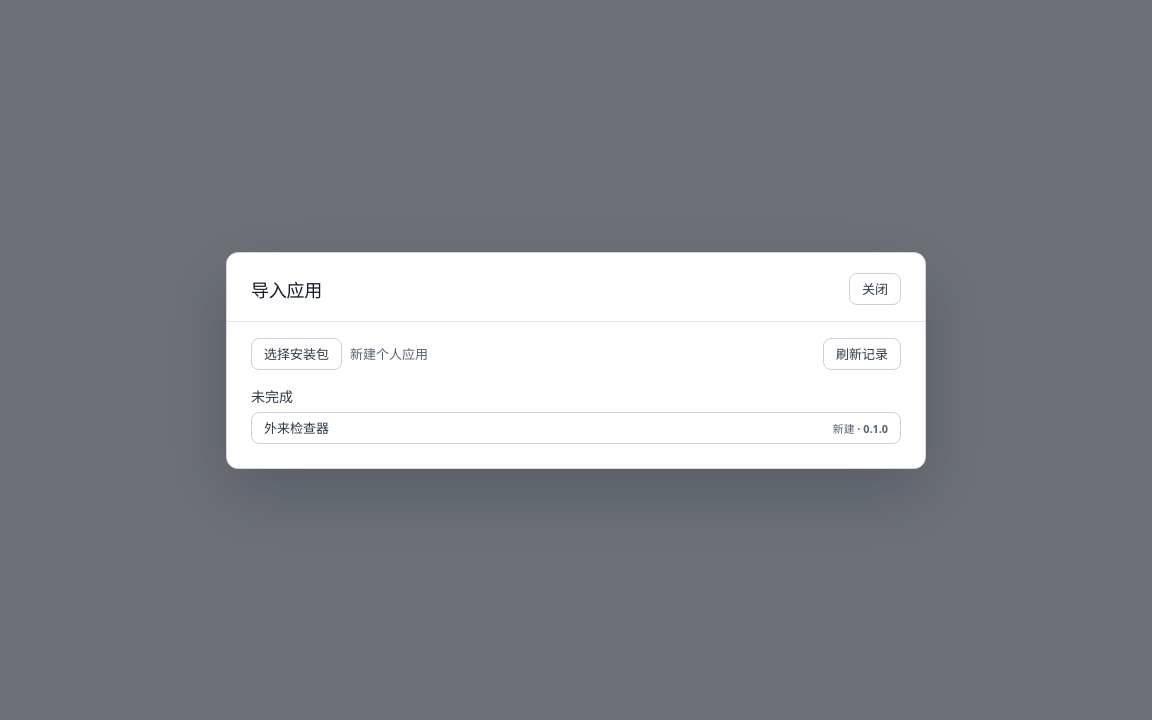
Test: 打开仅查询本地未完成记录，不选择文件或重发安装
The width and height of the screenshot is (1152, 720).
Click the button "外来检查器 新建 · 0.1.0" at (297, 428), box [251,412,901,444]
(page scrolled)
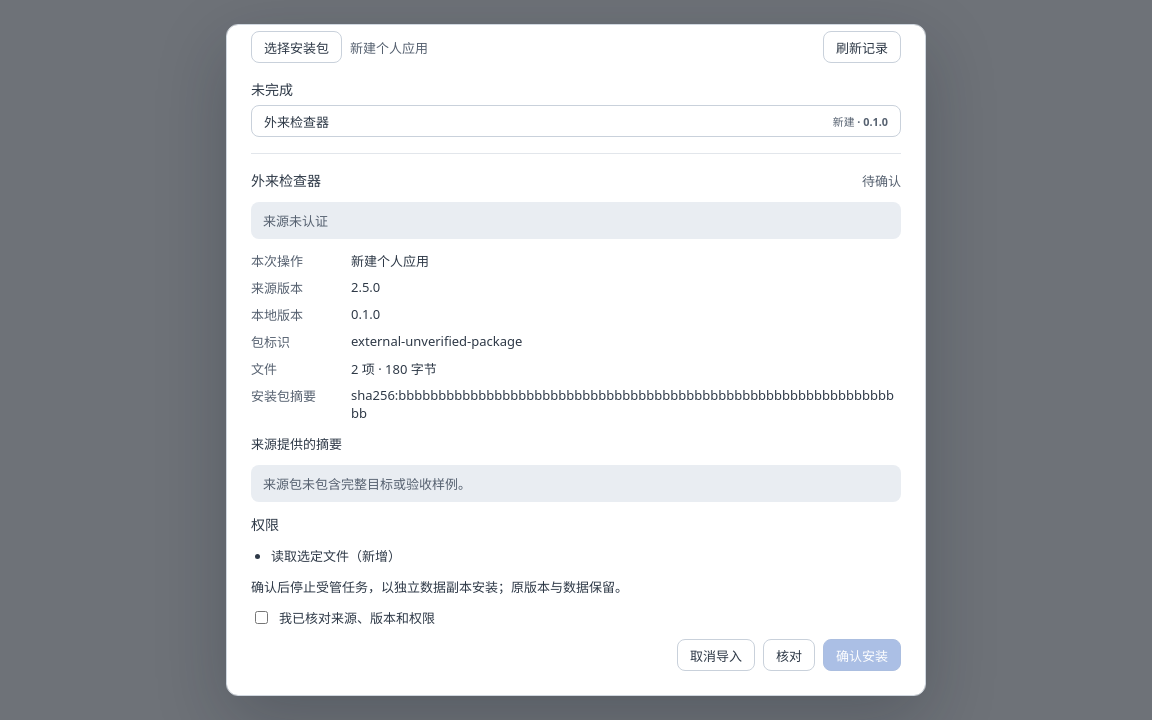
Expected: the text "来源未认证" is shown, [251,202,901,239]
Expected: the button "确认安装" is disabled, [823,639,901,671]
